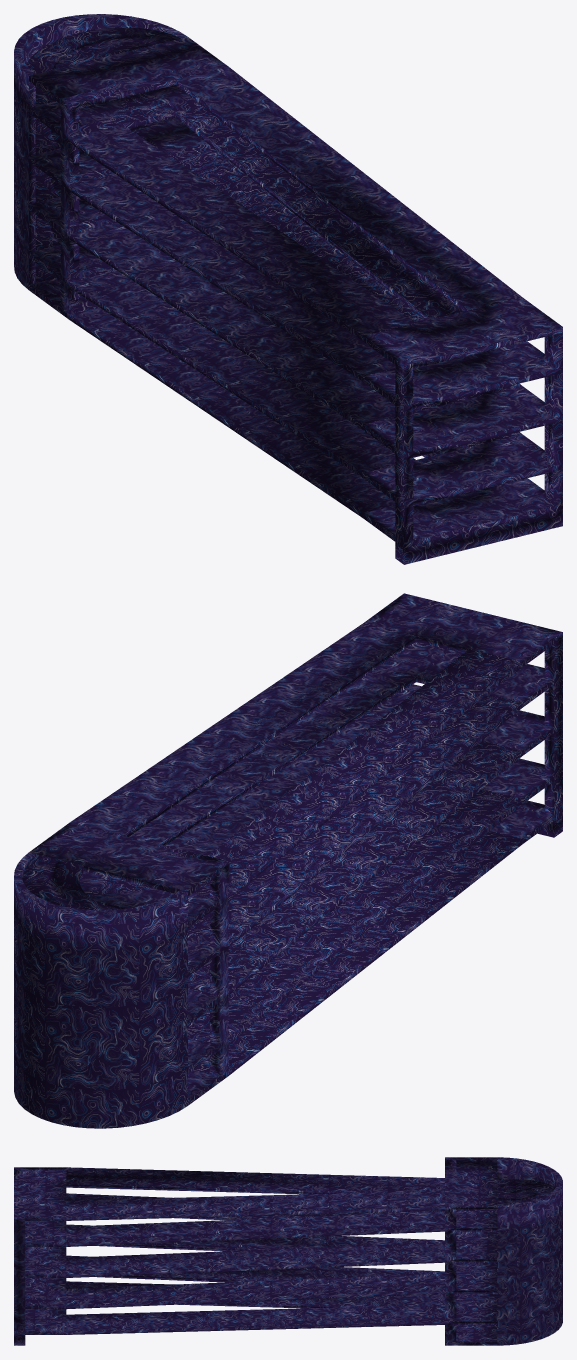
The model's file is perlinbuilding2.glb.
3 renders of one model, top to bottom at view 1: azimuth 30°, elevation 25°; view 2: azimuth 150°, elevation 25°; view 3: azimuth 270°, elevation 25°, orthographic. The views are drawn at different scales.
Parts seen in each view (by area): view 1: parking_garage_OBJ.000; view 2: parking_garage_OBJ.000; view 3: parking_garage_OBJ.000.
Boxes of the visible parts, x1,y1,x2,y2 form: parking_garage_OBJ.000: [14, 14, 562, 564]; parking_garage_OBJ.000: [14, 593, 562, 1128]; parking_garage_OBJ.000: [14, 1157, 562, 1345].
Size of what is drawn, in the model's own units: 1.01 by 1.3 by 4.69.
Materials: 1 (1 with a texture image).
